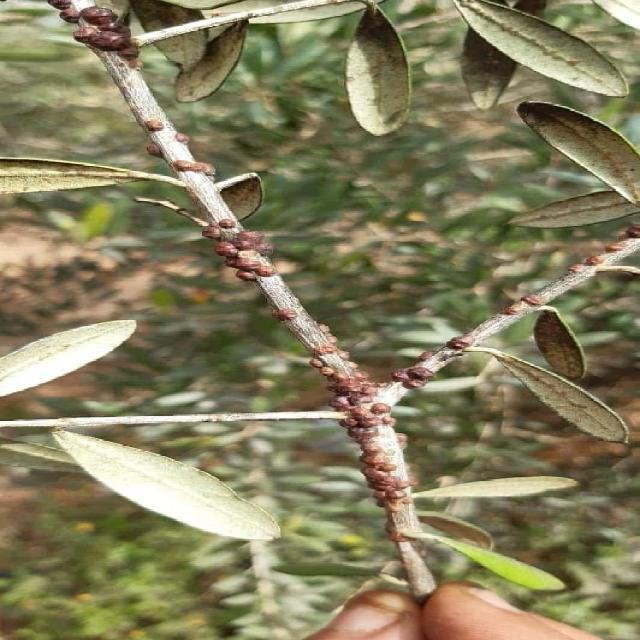BlackScale: (310, 326, 412, 512), (46, 0, 140, 69), (202, 218, 280, 280), (392, 362, 430, 390), (172, 159, 213, 177), (442, 334, 476, 353), (271, 308, 296, 325), (520, 294, 546, 308), (141, 120, 165, 132), (176, 132, 190, 146)
